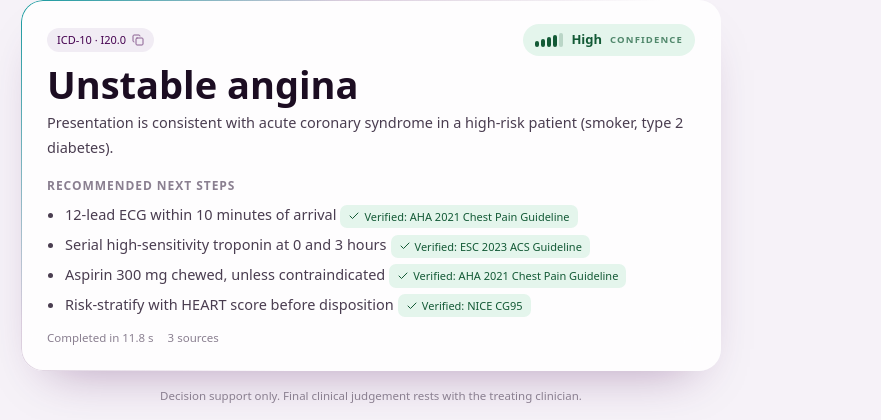
Test: ResultCard › copies the ICD-10 code and confirms only after the copy succeeds
The width and height of the screenshot is (881, 420).
Click the button with aria-label "ICD-10 I20.0": click(101, 40) [47, 28, 154, 52]
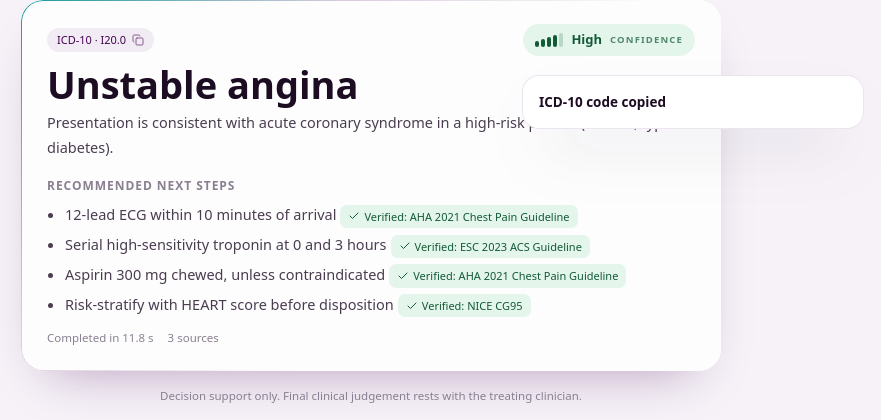
Expected: the text "ICD-10 code copied" is shown, [539, 93, 666, 111]
